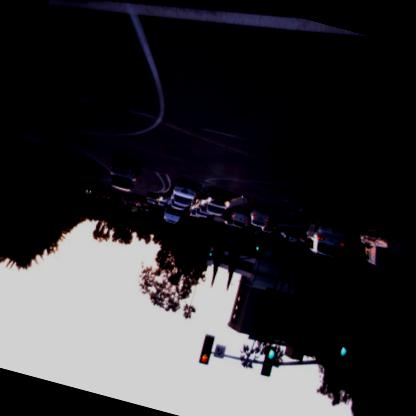trafficlight: (334, 340, 366, 368), (258, 342, 280, 380), (198, 332, 217, 366), (250, 242, 263, 262), (206, 249, 215, 263)
